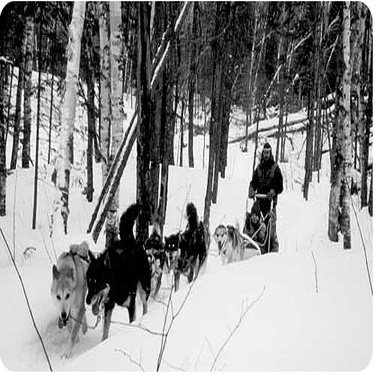dog: (85, 197, 154, 340), (37, 237, 96, 348), (119, 220, 169, 307), (176, 189, 215, 296), (149, 212, 192, 301), (207, 199, 249, 275)
